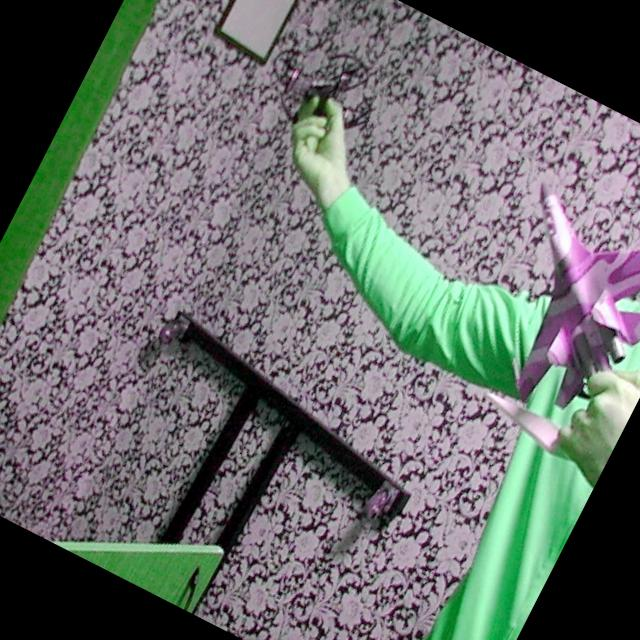drone: (246, 15, 404, 167)
